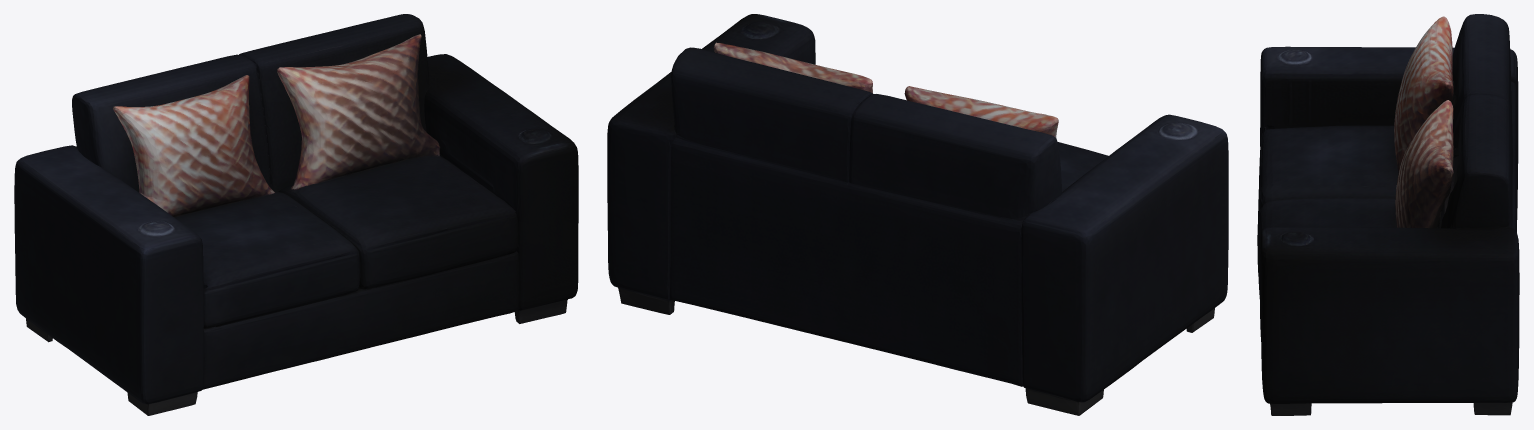
The model's file is 4857_sofa_single_2div_cup_holder_sq.glb.
3 renders of one model, left to right at view 1: azimuth 30°, elevation 25°; view 2: azimuth 150°, elevation 25°; view 3: azimuth 270°, elevation 25°, orthographic. The views are drawn at different scales.
Parts seen in each view (by area): view 1: world; view 2: world; view 3: world.
Part boxes in pixels (x1,y1,x2,y2): world: (14,14,578,415); world: (607,14,1228,415); world: (1257,14,1519,415).
Bounding box in the file's own units: 0.9995 × 0.5012 × 0.5252.
1 material, 1 textured.
